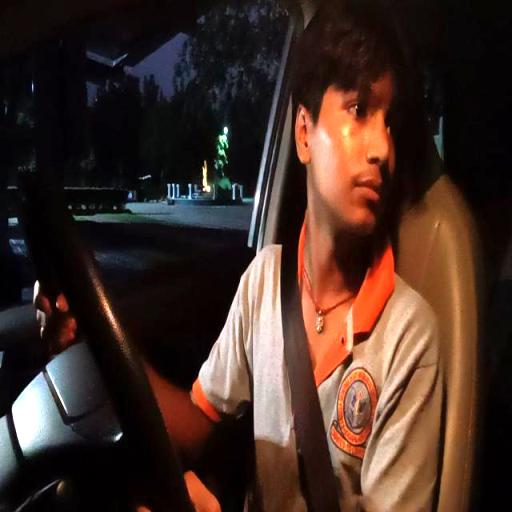Reaching_behind: (234, 14, 442, 496)
